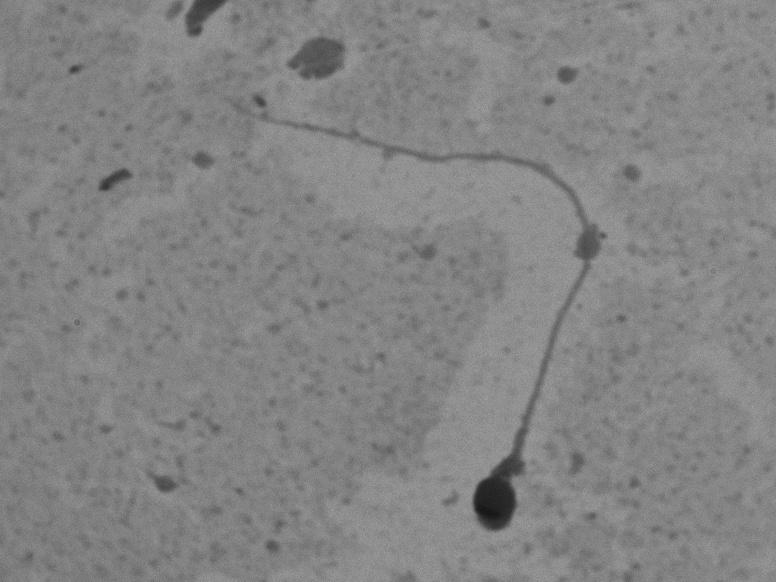Abnormal: (151, 79, 651, 542)
